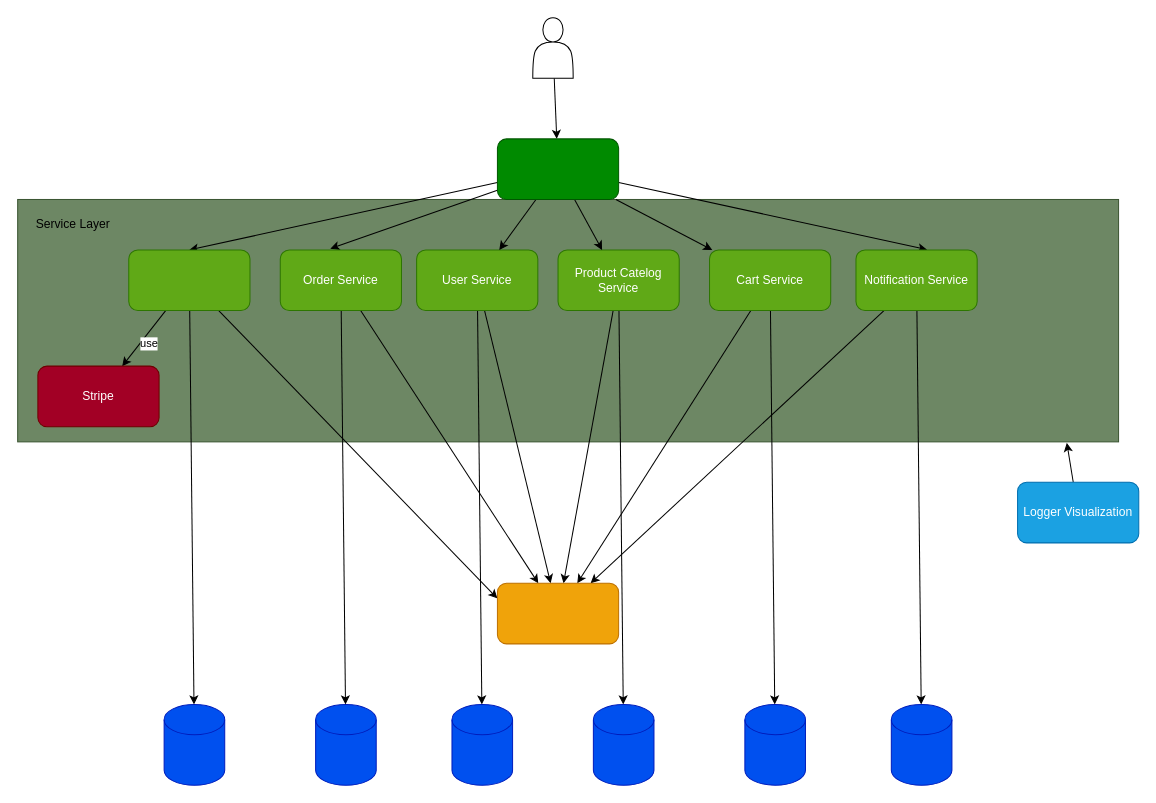
This 1156x803 diagram has some shape labels left out. Each missing label, with the centre of its shape:
"API Gateway" goes at pixel 557 168.
"Message broker" goes at pixel 557 613.
"Payment Service" goes at pixel 189 280.
